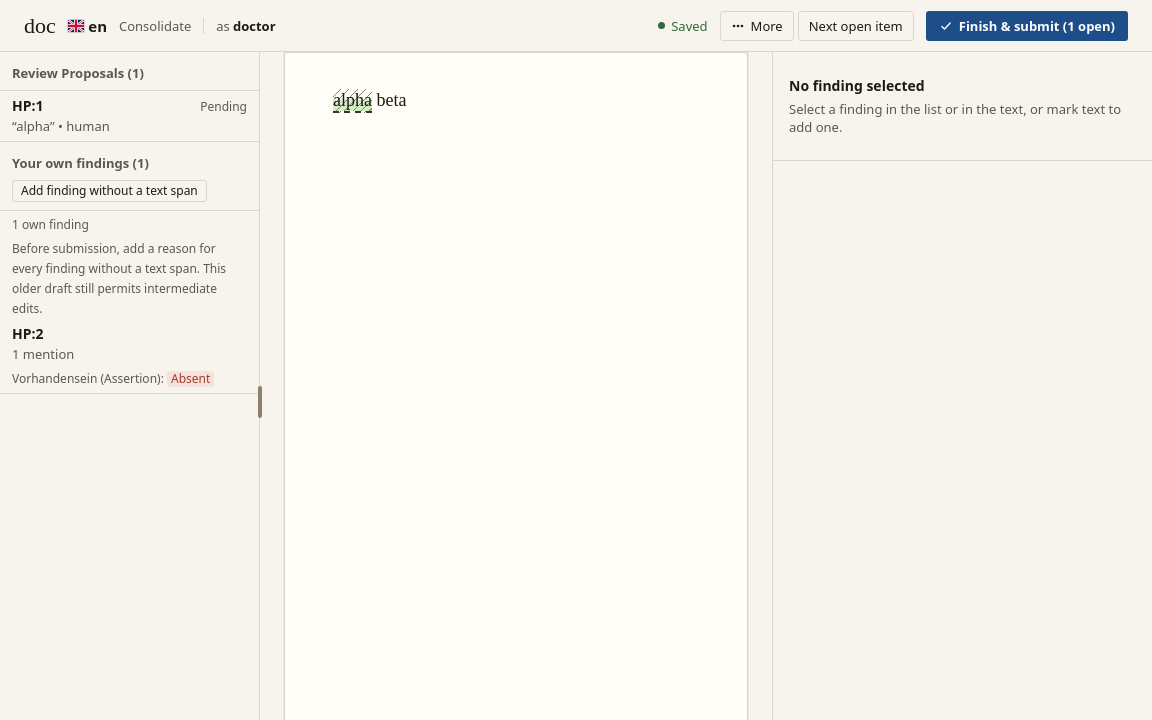
Test: Workflow Regressions › strictly separates selection between review targets and own annotations in sidebar and inspector
Click Review Target HP:1:
Click the text "HP:1" at (28, 106), box [12,96,44,115]
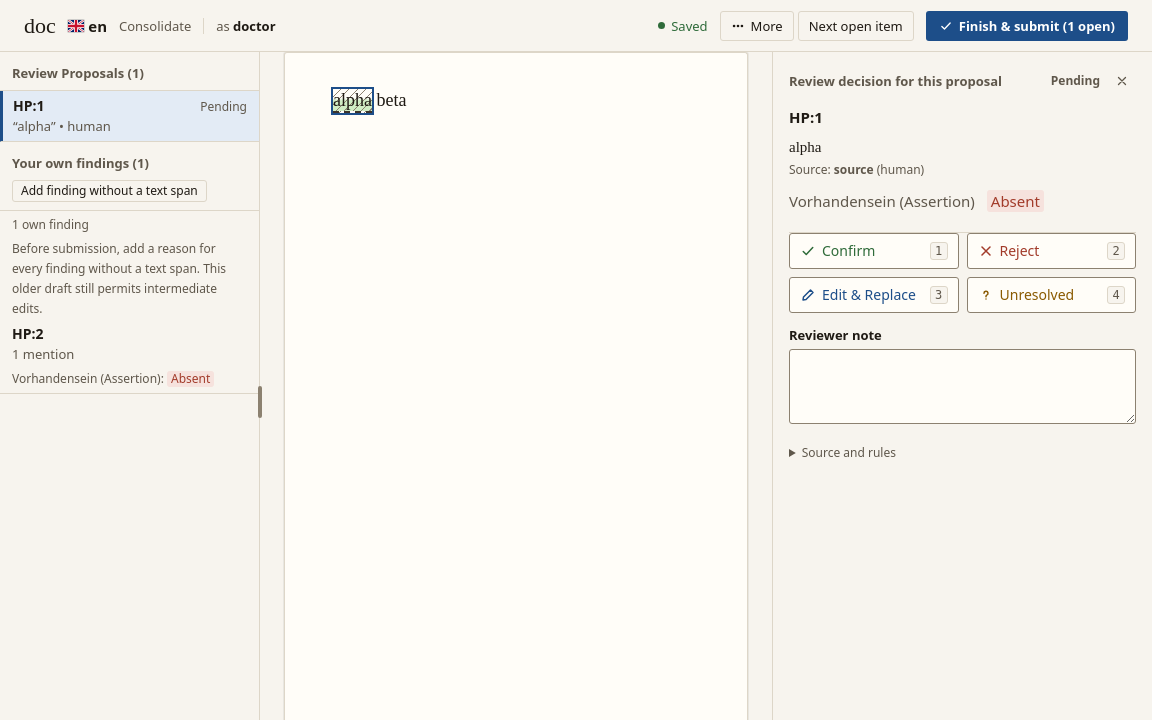
Expected: the heading "Values" is not shown
Expected: the heading "Review decision for this proposal" is shown, [789,72,1002,90]
Click own annotation HP:2:
Click the text "HP:2" at (28, 334), box [12,324,44,343]
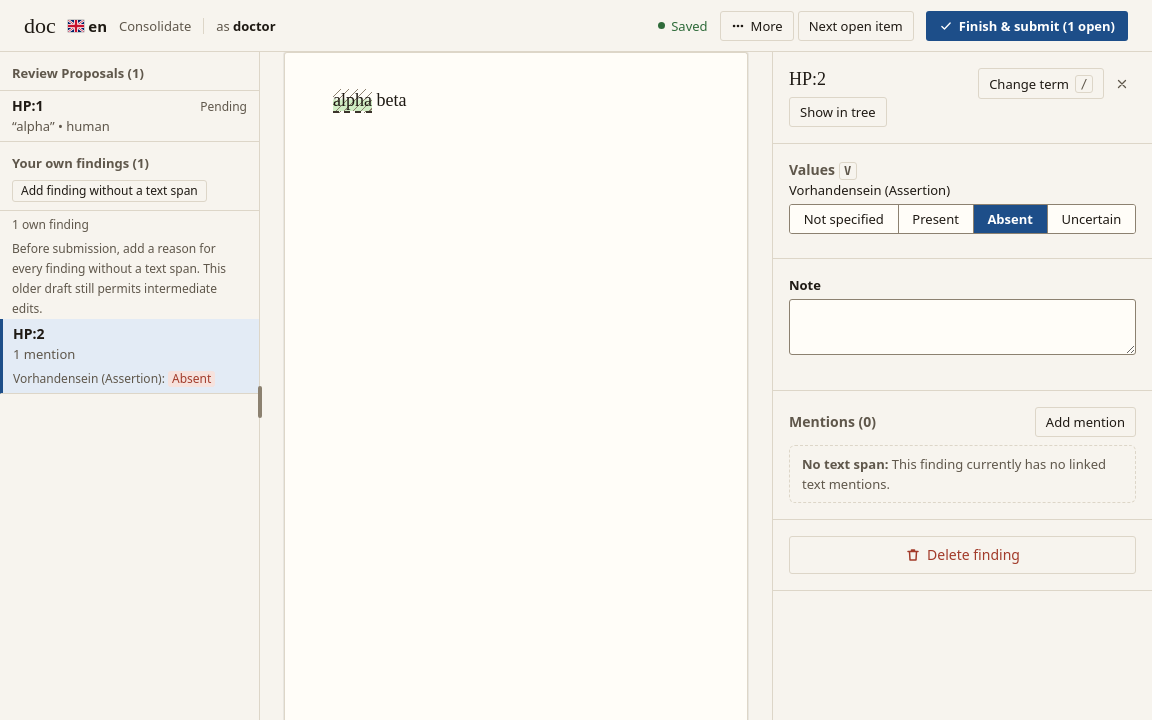
Expected: the heading "Review decision for this proposal" is gone
Expected: the heading "Values V" is shown, [789,160,857,180]
Click back on HP:1:
Click the text "HP:1" at (28, 106), box [12,96,44,115]
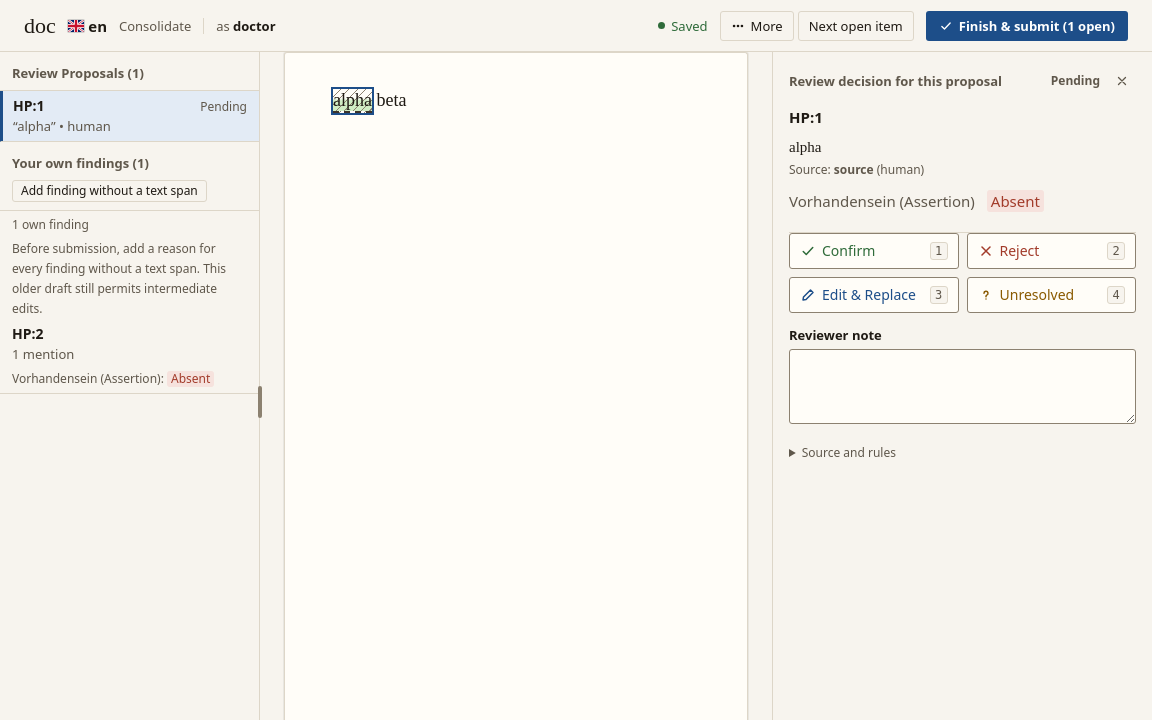
Expected: the heading "Review decision for this proposal" is shown, [789,72,1002,90]
Expected: the heading "Values" is gone
